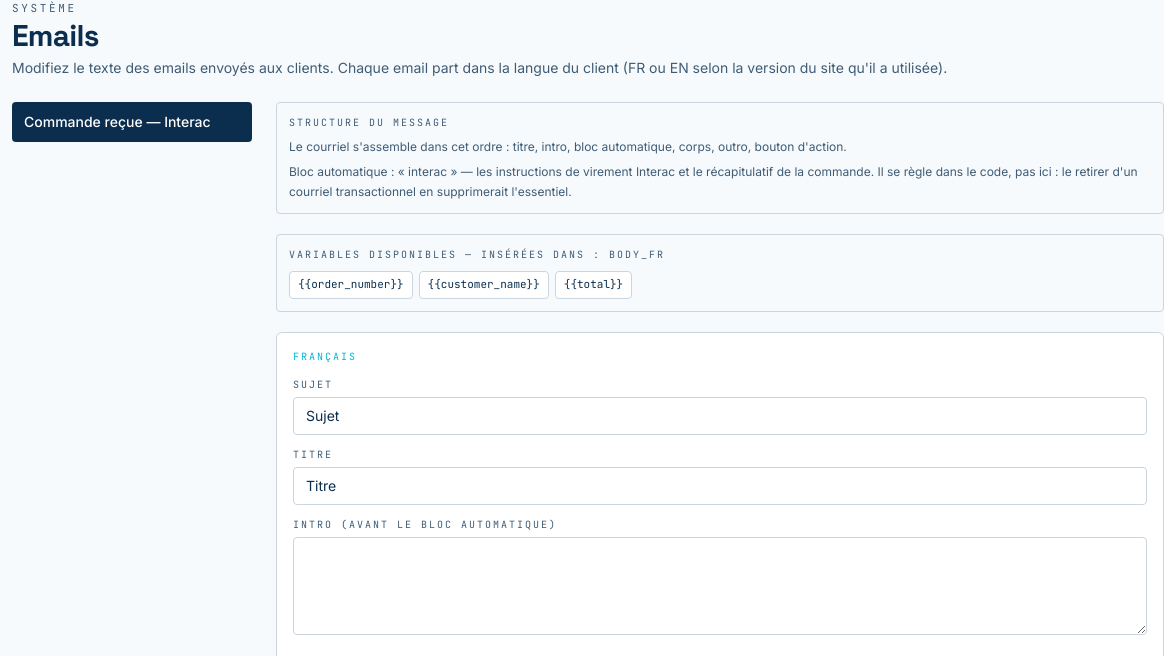
Test: la variable ne se colle pas au mot précédent
The width and height of the screenshot is (1164, 656).
Click the button with test id "email-var-customer_name": [484, 285] box x1=419 y1=271 x2=549 y2=299
(page scrolled)
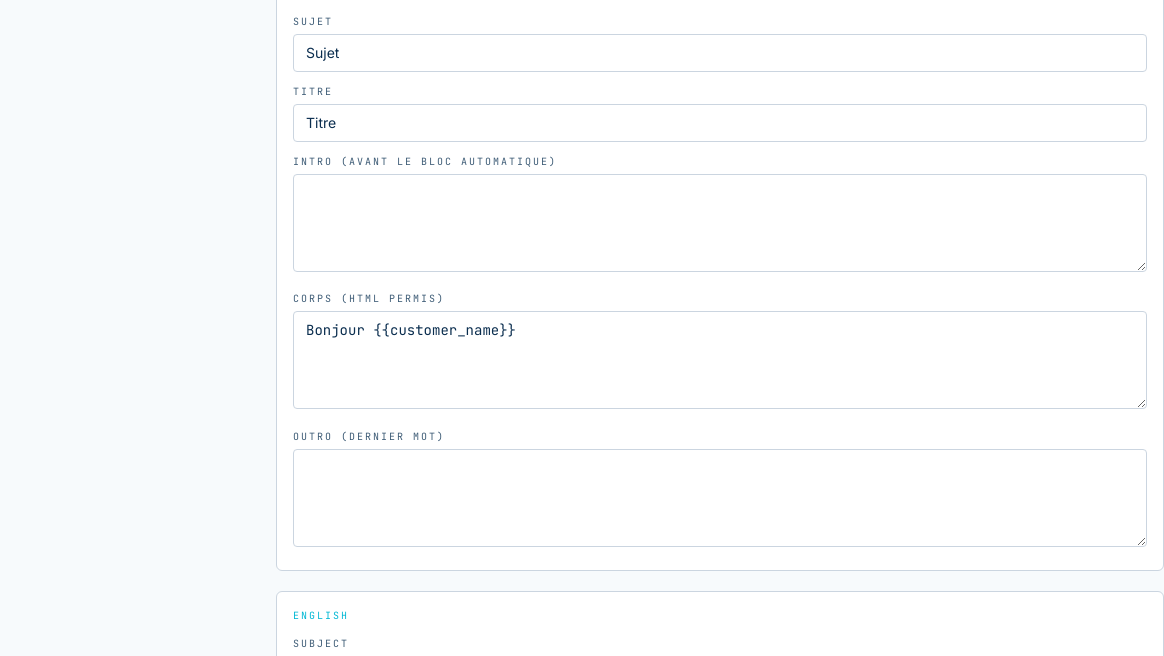
Check: the text box with test id "email-body-fr" holds "Bonjour {{customer_name}}", box x1=293 y1=311 x2=1147 y2=409
